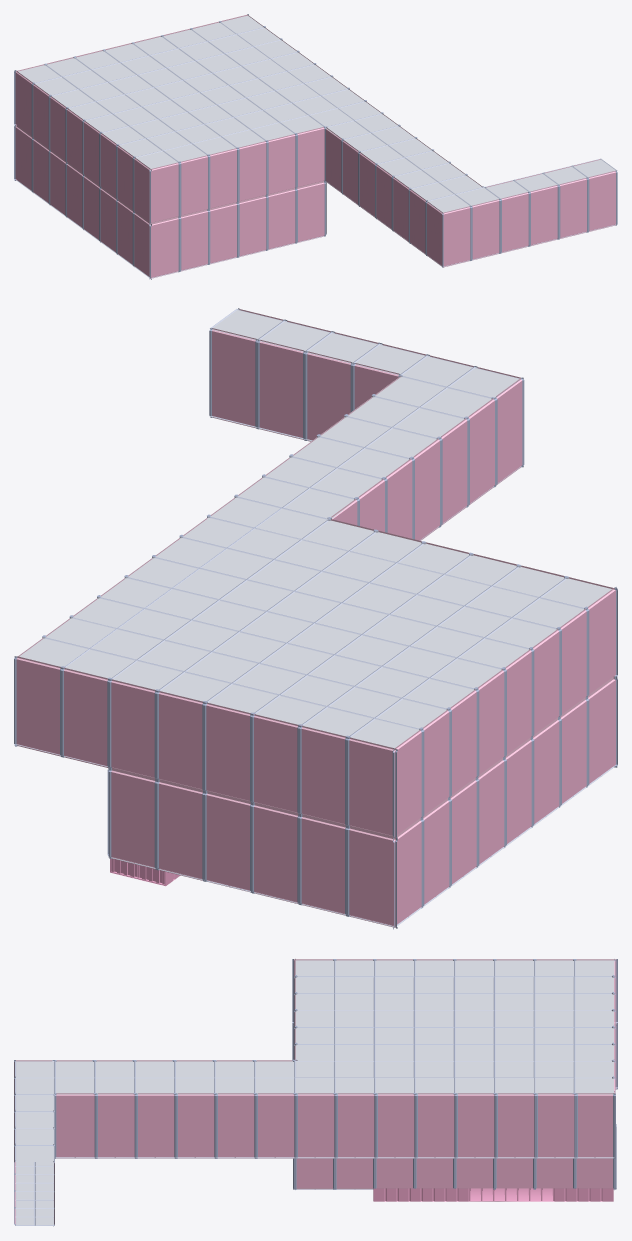
The model's file is Section_01_Asset.fbx.
3 renders of one model, top to bottom at view 1: azimuth 30°, elevation 25°; view 2: azimuth 150°, elevation 25°; view 3: azimuth 270°, elevation 25°, orthographic. The views are drawn at different scales.
Visible parts, largest first — view 1: Section_01_Mesh; view 2: Section_01_Mesh; view 3: Section_01_Mesh.
Part boxes in pixels (<box>): Section_01_Mesh: <box>14,14,617,279</box>; Section_01_Mesh: <box>14,308,617,929</box>; Section_01_Mesh: <box>14,959,617,1226</box>.
Bounding box in the file's own units: 2409 × 780 × 3021.
Materials: 6 (6 with a texture image).
